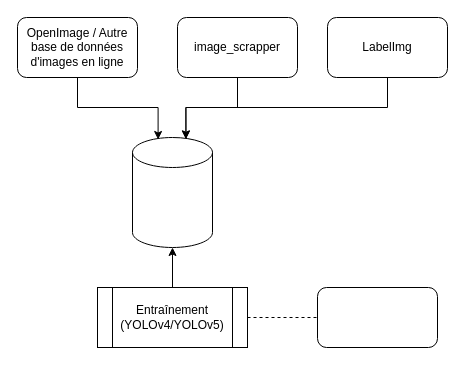
Some shapes in this 465 by 365 pixel diagram are drawn without their labels. Each missing label, with the centre of its shape:
"Base de données d'images annotées" belongs at point 172,192.
"Fichier de poids (.weights / .pt)" belongs at point 377,317.
